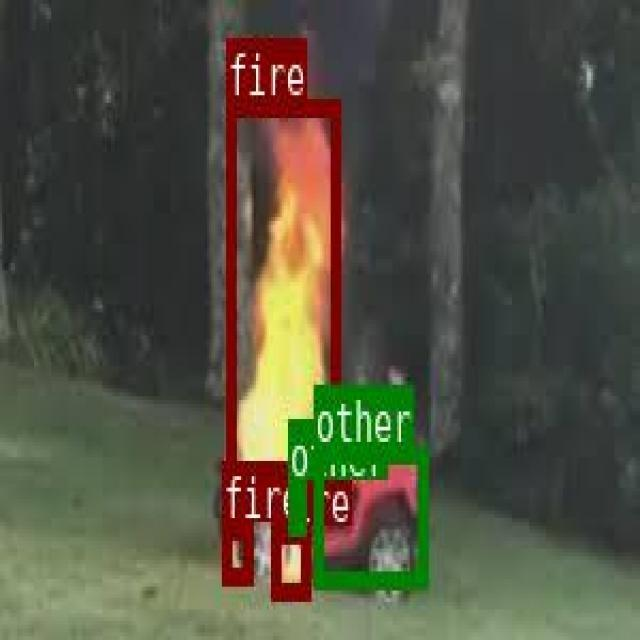fire: (224, 96, 339, 495), (270, 523, 308, 595), (221, 519, 250, 582)
